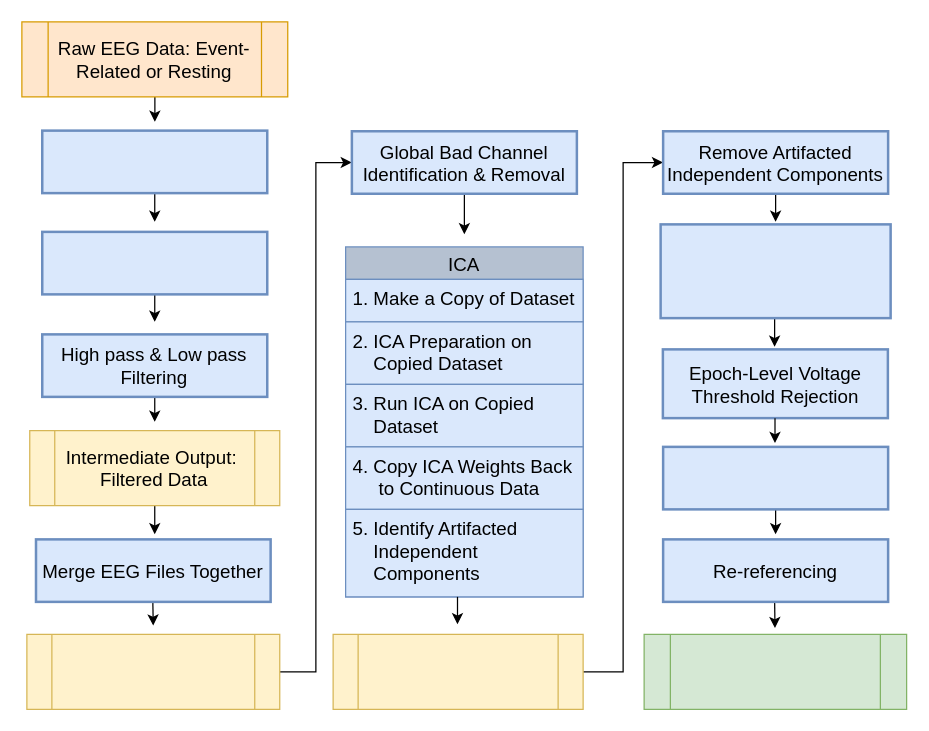
Image size: 929x731. Some labels were removed from this diagram. The shapes that lost their labels are listed below. From the top down, each one's centre as x and y in pixels, then its label:
At (x=154, y=161): "Downsample".
At (x=154, y=262): "Delete Outer Layer of Channels".
At (x=775, y=270): "Separate Merged Data into Individual Tasks and Epoch Based on Event Markers".
At (x=775, y=477): "Global Channel Interpolation".
At (x=153, y=671): "Intermediate Output: Merged Data".
At (x=457, y=671): "Intermediate Output: ICA Data".
At (x=775, y=671): "Final Output: Processed Data & Reports".
